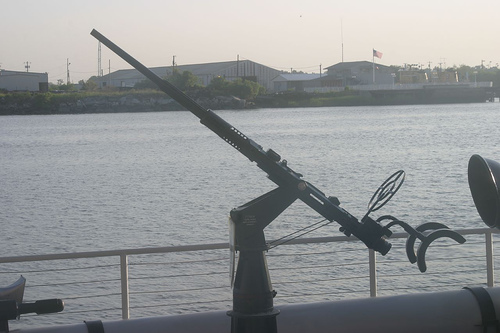rifle: (82, 20, 441, 292)
